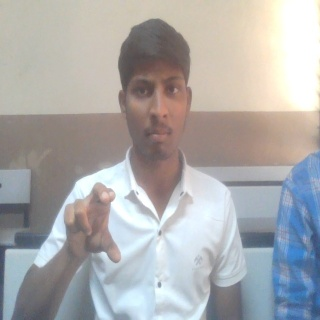Face: (116, 18, 195, 164)
No: (61, 179, 122, 266)
